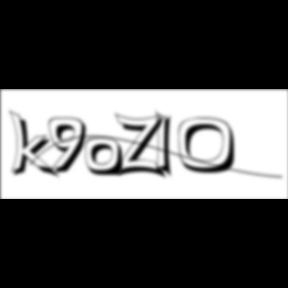9: (48, 117, 94, 177)
O: (178, 117, 242, 176)
Z: (115, 112, 170, 181)
k: (8, 108, 62, 181)
l: (156, 108, 179, 182)
o: (85, 137, 127, 179)
